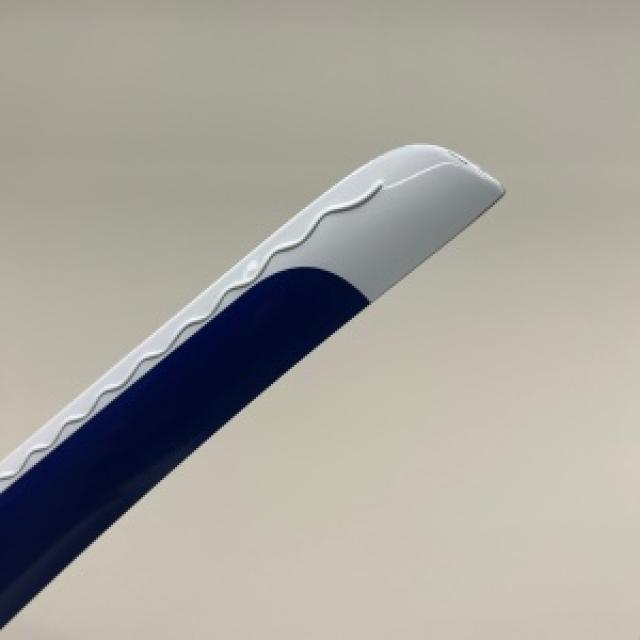healthy: (0, 145, 499, 625)
